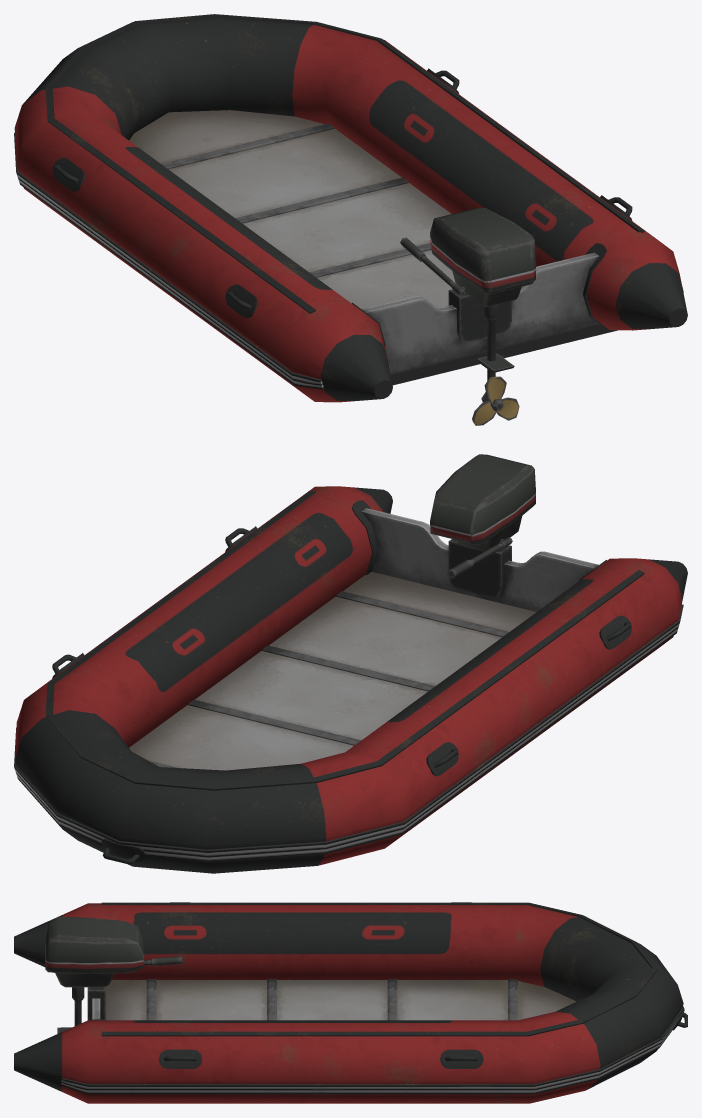
The model's file is DD_Fishing_Boat_B.FBX.
The picture shows the model from 3 angles, top to bottom: view 1: azimuth 30°, elevation 25°; view 2: azimuth 150°, elevation 25°; view 3: azimuth 270°, elevation 25°; orthographic projection. The views are drawn at different scales.
Parts seen in each view (by area): view 1: DD_Fishing_Boat_B; view 2: DD_Fishing_Boat_B; view 3: DD_Fishing_Boat_B.
Boxes of the visible parts, left/top/right/bottom form: DD_Fishing_Boat_B: left=14, top=14, right=687, bottom=425; DD_Fishing_Boat_B: left=14, top=454, right=687, bottom=873; DD_Fishing_Boat_B: left=14, top=902, right=687, bottom=1103.
Bounding box in the file's own units: 369 × 675 × 170.
